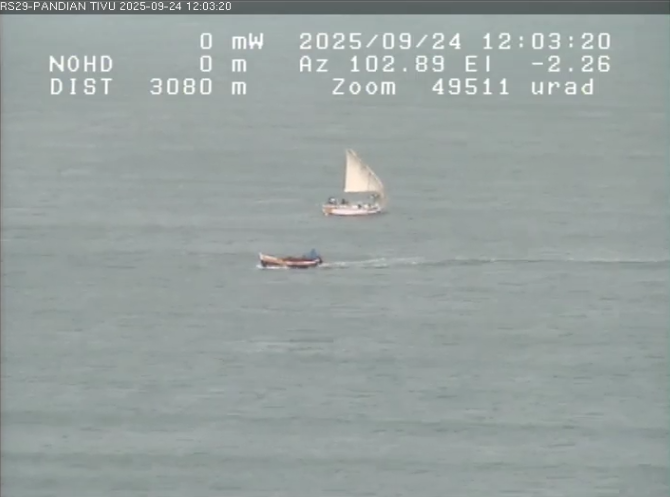FISHING_BOAT: (242, 235, 341, 282)
SAIL_BOAT: (306, 144, 416, 220)
